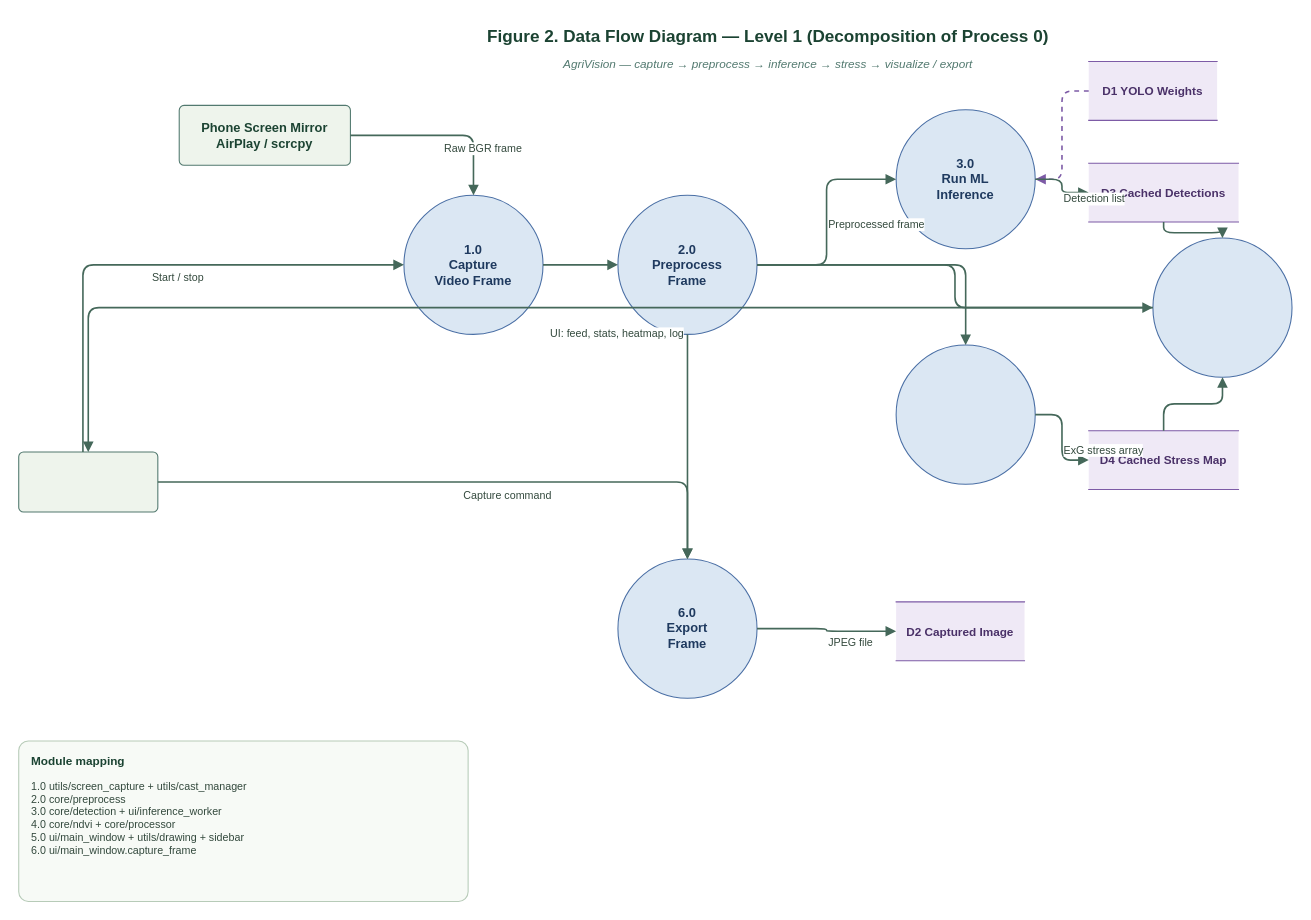
The diagram is 1311 pixels wide and 920 high, and some of its shapes have lost their labels. The shapes that lost their labels are listed below. From the top down, each one's centre as x and y in pixels, then its label:
At point (1222, 307): "5.0 Visualize & Aggregate".
At point (965, 414): "4.0 Compute Stress Map".
At point (88, 481): "Farm Operator".
